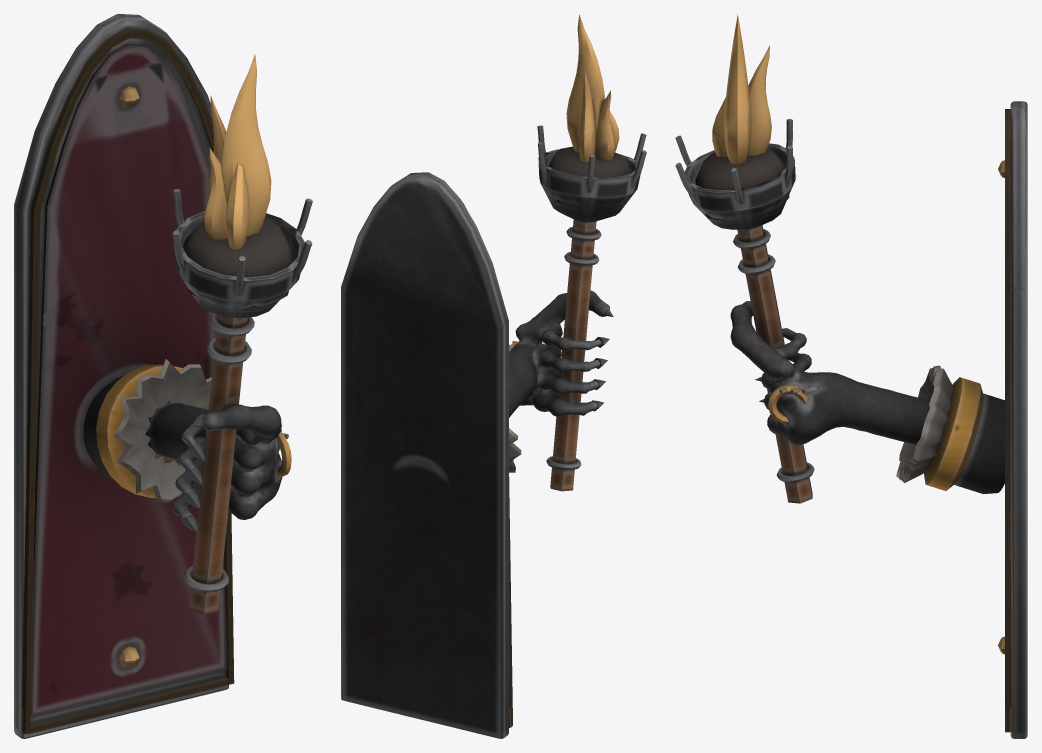
The model's file is SconceIronHand.fbx.
The picture shows the model from 3 angles, left to right: view 1: azimuth 30°, elevation 25°; view 2: azimuth 150°, elevation 25°; view 3: azimuth 270°, elevation 25°; orthographic projection. The views are drawn at different scales.
Parts seen in each view (by area): view 1: SconceIronHand_Main, SconceIronHand_Glow; view 2: SconceIronHand_Main, SconceIronHand_Glow; view 3: SconceIronHand_Main, SconceIronHand_Glow.
Boxes of the visible parts, left/top/right/bottom form: SconceIronHand_Main: left=14, top=14, right=312, bottom=738; SconceIronHand_Glow: left=204, top=54, right=271, bottom=250; SconceIronHand_Main: left=341, top=125, right=646, bottom=738; SconceIronHand_Glow: left=566, top=14, right=619, bottom=163; SconceIronHand_Main: left=675, top=101, right=1027, bottom=738; SconceIronHand_Glow: left=712, top=14, right=771, bottom=165.
Size of the model in its own units: 75.98 by 260 by 124.
